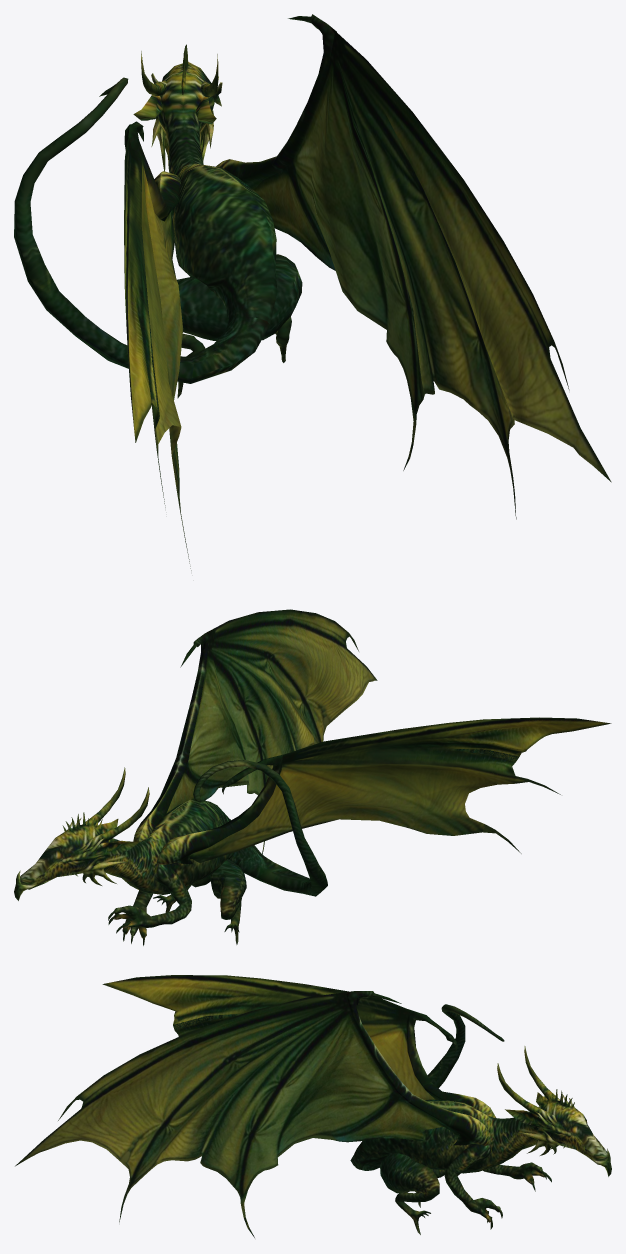
The model's file is dragon.dae.
3 views of the same model, one above another, from view 1: azimuth 30°, elevation 25°; view 2: azimuth 150°, elevation 25°; view 3: azimuth 270°, elevation 25° (orthographic). The views are drawn at different scales.
Visible parts, largest first — view 1: Group13, Group8, Group10, Group14, Group22, Group27, Group11; view 2: Group10, Group13, Group8, Group11, Group14, Group23, Group22, Group21, Group16, Group4, Group15; view 3: Group13, Group10, Group8, Group14, Group27, Group11, Group4, Group23, Group2, Group3.
Boxes of the visible parts, x1=… form: Group13: x1=254, y1=25, x2=611, y2=519; Group8: x1=14, y1=62, x2=277, y2=383; Group10: x1=124, y1=136, x2=191, y2=570; Group14: x1=216, y1=14, x2=336, y2=189; Group22: x1=177, y1=277, x2=228, y2=398; Group27: x1=262, y1=254, x2=302, y2=362; Group11: x1=124, y1=121, x2=181, y2=221; Group10: x1=189, y1=717, x2=611, y2=862; Group13: x1=167, y1=609, x2=377, y2=853; Group8: x1=20, y1=760, x2=327, y2=896; Group11: x1=156, y1=754, x2=282, y2=864; Group14: x1=133, y1=633, x2=209, y2=841; Group23: x1=114, y1=864, x2=191, y2=928; Group22: x1=210, y1=859, x2=246, y2=944; Group21: x1=85, y1=787, x2=149, y2=848; Group16: x1=95, y1=840, x2=139, y2=856; Group4: x1=122, y1=890, x2=152, y2=938; Group15: x1=82, y1=857, x2=130, y2=885; Group13: x1=15, y1=991, x2=459, y2=1237; Group10: x1=102, y1=975, x2=434, y2=1099; Group8: x1=350, y1=1004, x2=607, y2=1173; Group14: x1=346, y1=991, x2=490, y2=1145; Group27: x1=380, y1=1153, x2=439, y2=1234; Group11: x1=406, y1=1010, x2=495, y2=1117; Group4: x1=444, y1=1144, x2=500, y2=1222; Group23: x1=483, y1=1162, x2=546, y2=1184; Group2: x1=497, y1=1063, x2=557, y2=1122; Group3: x1=515, y1=1129, x2=557, y2=1155.
Bounding box in the file's own units: 179 × 313 × 144.
Materials: 2 (2 with a texture image).
